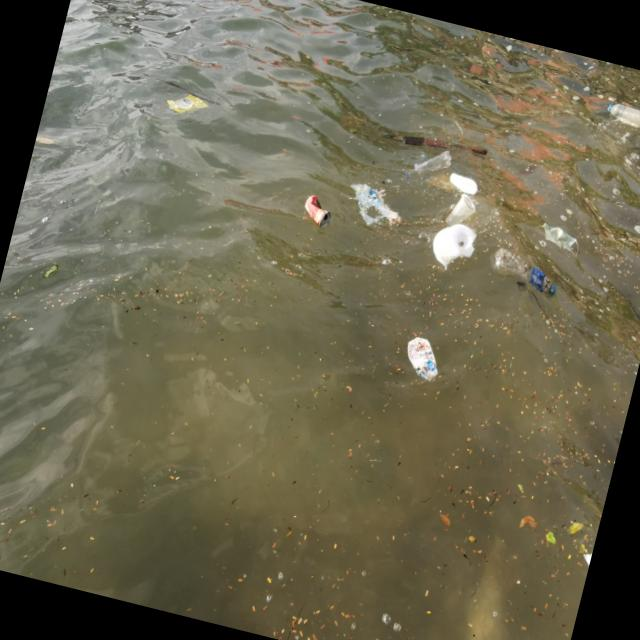can: (301, 193, 336, 229)
foam: (428, 220, 480, 275), (448, 173, 481, 198)
plastic bottle: (486, 245, 564, 301), (412, 145, 455, 181), (605, 103, 640, 130)
